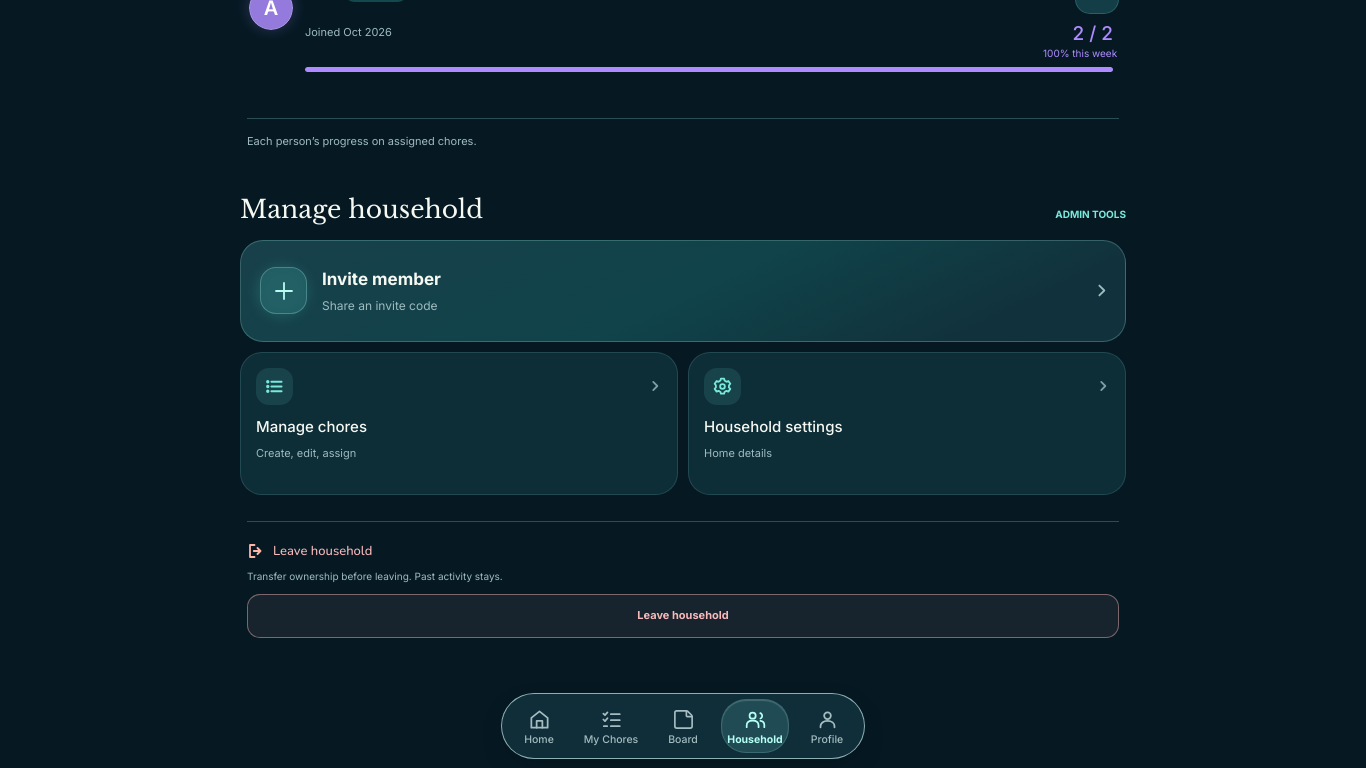
Test: HouseholdScreen owner leave confirmation › keeps the confirmation open with a readable error when the API fails
(page scrolled)
Click the button "Leave household": (683, 616) [247,594,1119,638]
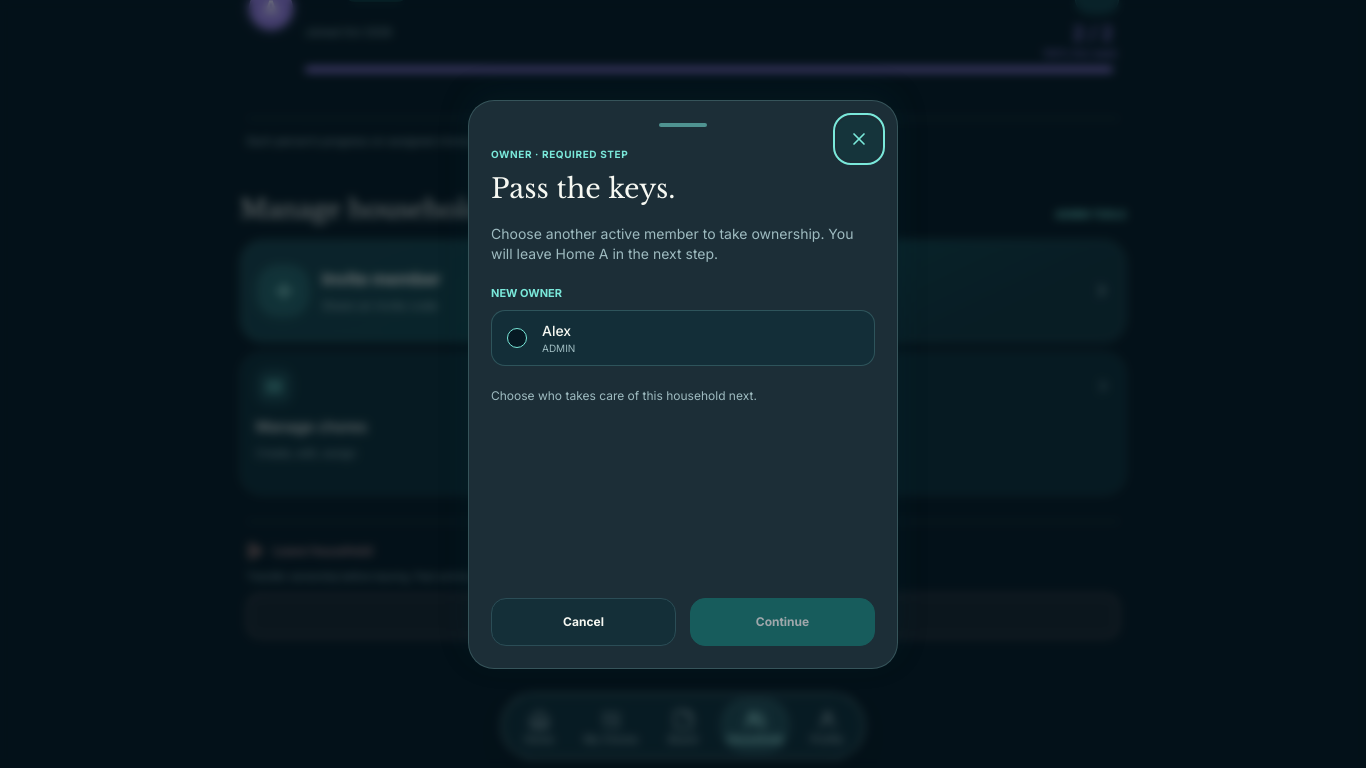
Click the radio button labelled "Alex Admin": (517, 338) [507,328,527,348]
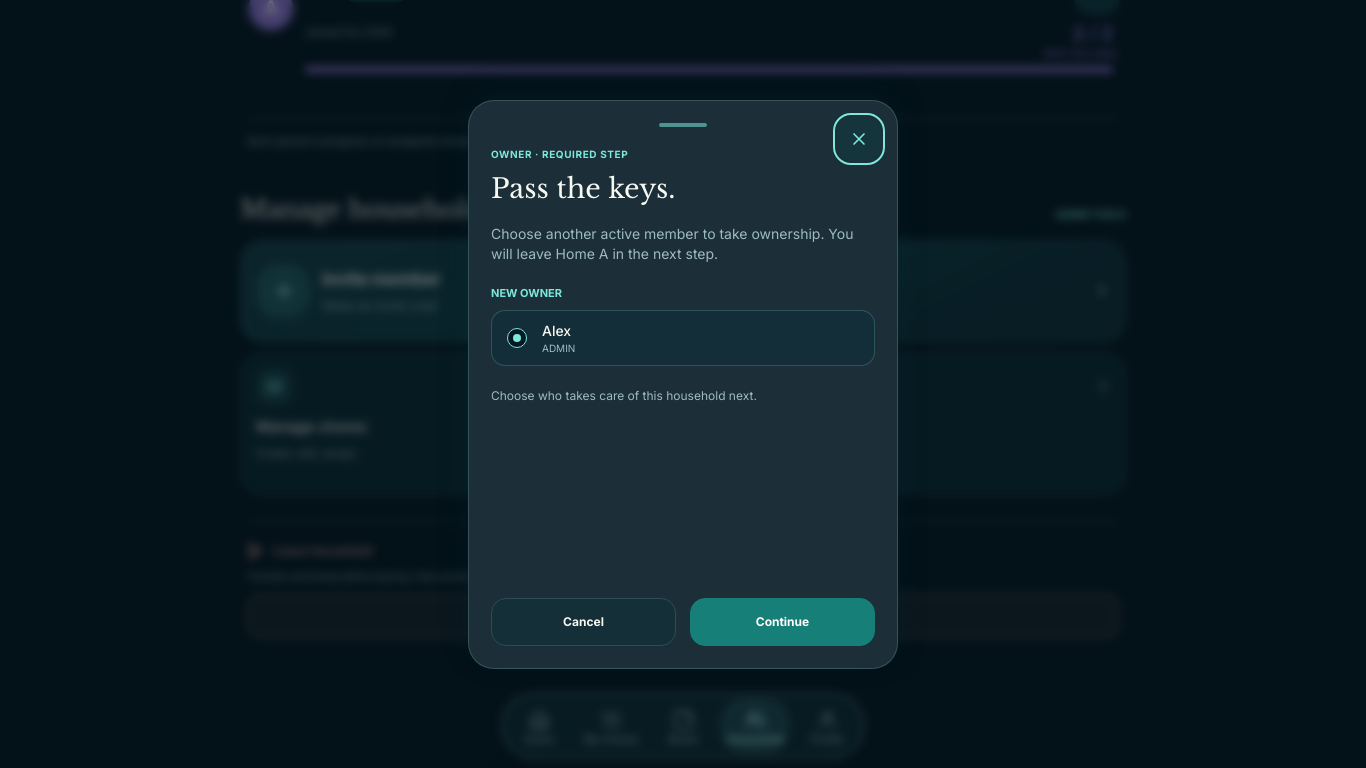
Click the button "Continue": (782, 622) [690,598,875,646]
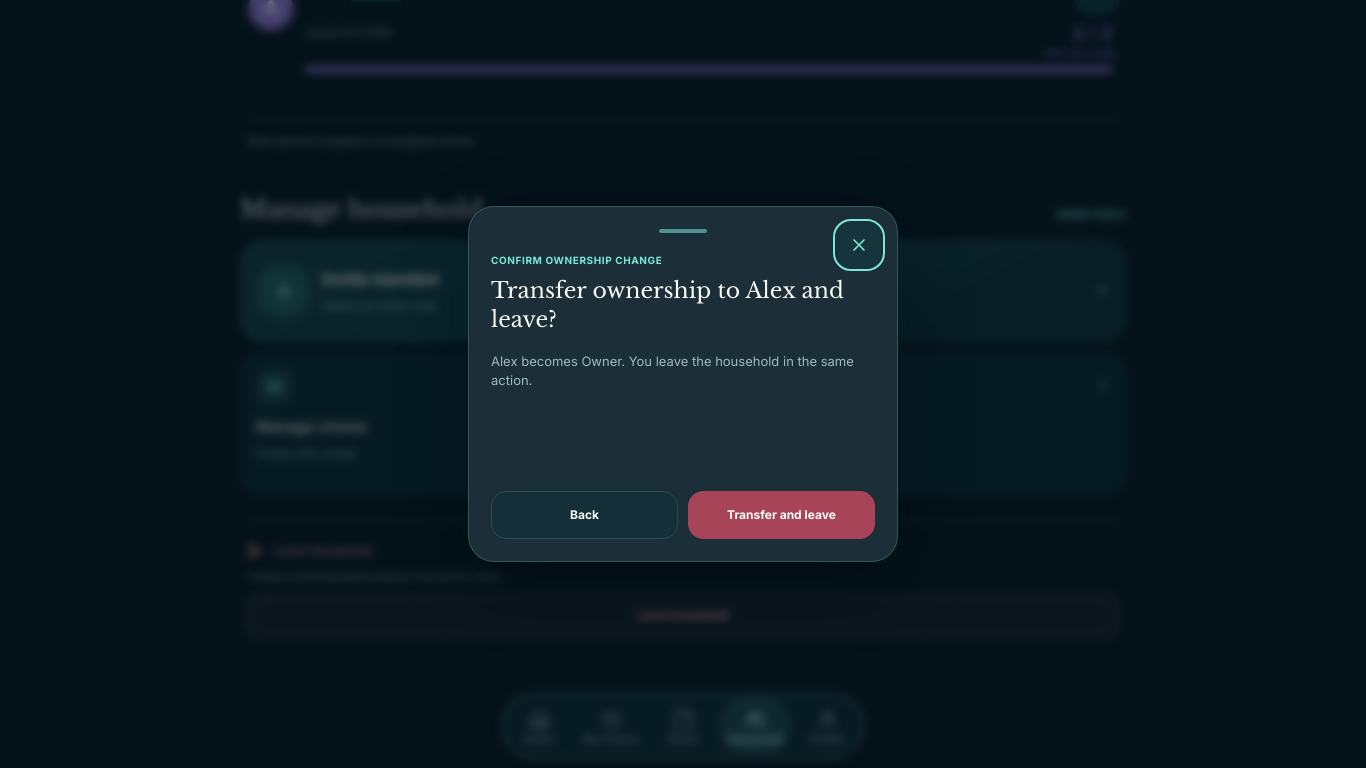
Click the button "Transfer and leave": (782, 515) [688,491,875,539]
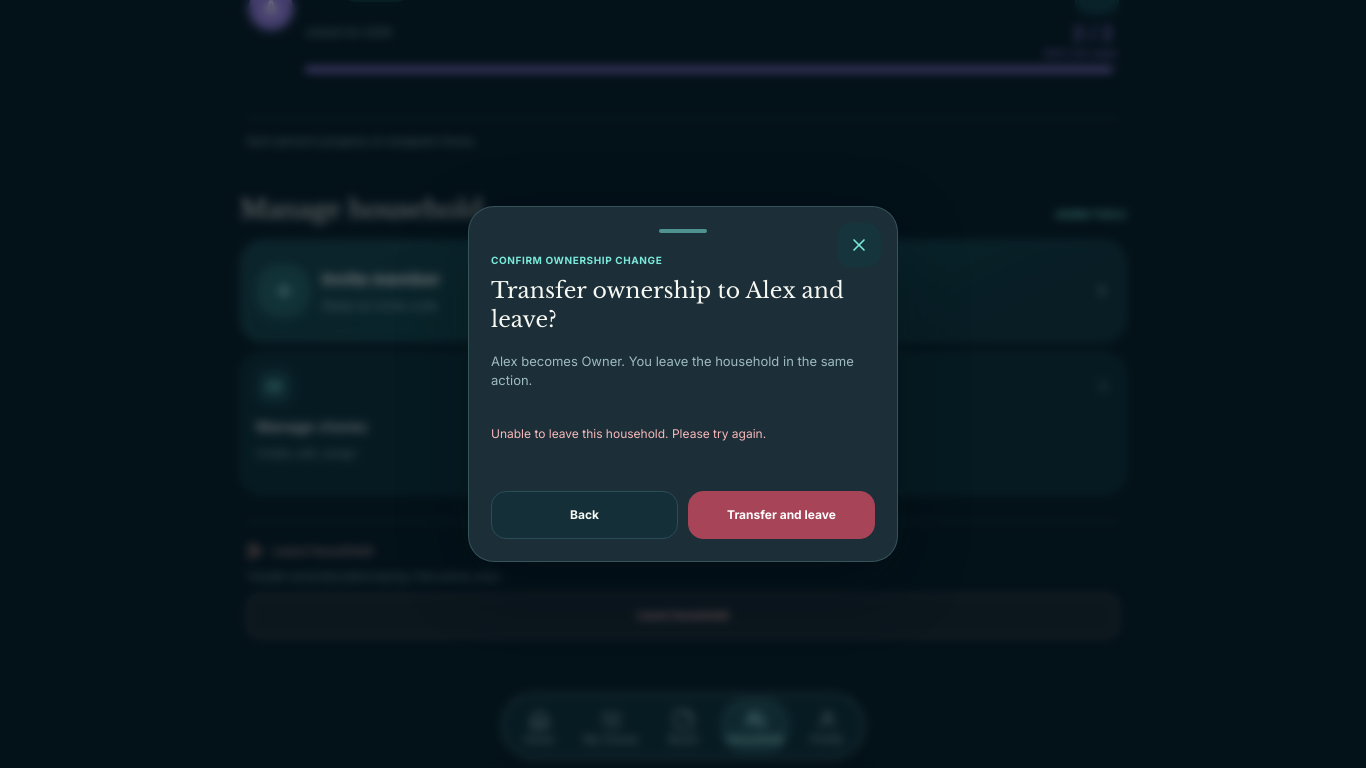
Now the dialog is shown, box [468,206,898,562]
Now the message reads "Unable to leave this household. Please try again.", box [491,426,766,441]
